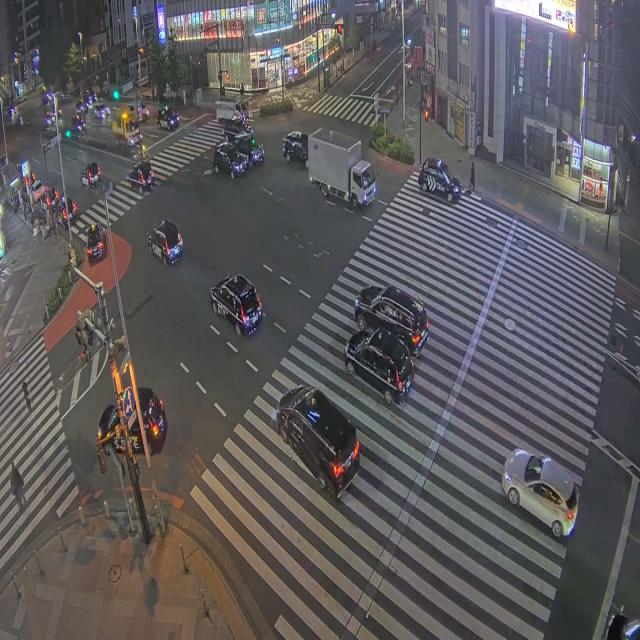car: (277, 386, 359, 499), (502, 449, 578, 537), (345, 329, 414, 404), (355, 286, 428, 355), (211, 275, 262, 335), (138, 387, 167, 455), (418, 158, 461, 202), (148, 221, 183, 265), (212, 143, 248, 178), (231, 133, 264, 166), (604, 613, 639, 639), (283, 131, 308, 167), (128, 160, 154, 191), (86, 224, 106, 262), (223, 117, 253, 139), (55, 196, 76, 225), (157, 106, 179, 130), (81, 162, 100, 187), (46, 183, 59, 207), (32, 180, 46, 201), (93, 104, 109, 119), (72, 115, 85, 132), (138, 103, 149, 120), (84, 92, 97, 106), (45, 112, 56, 127), (76, 101, 87, 116), (6, 105, 17, 119)
truck: (308, 128, 375, 207), (112, 110, 141, 145)
van: (215, 101, 250, 123)
